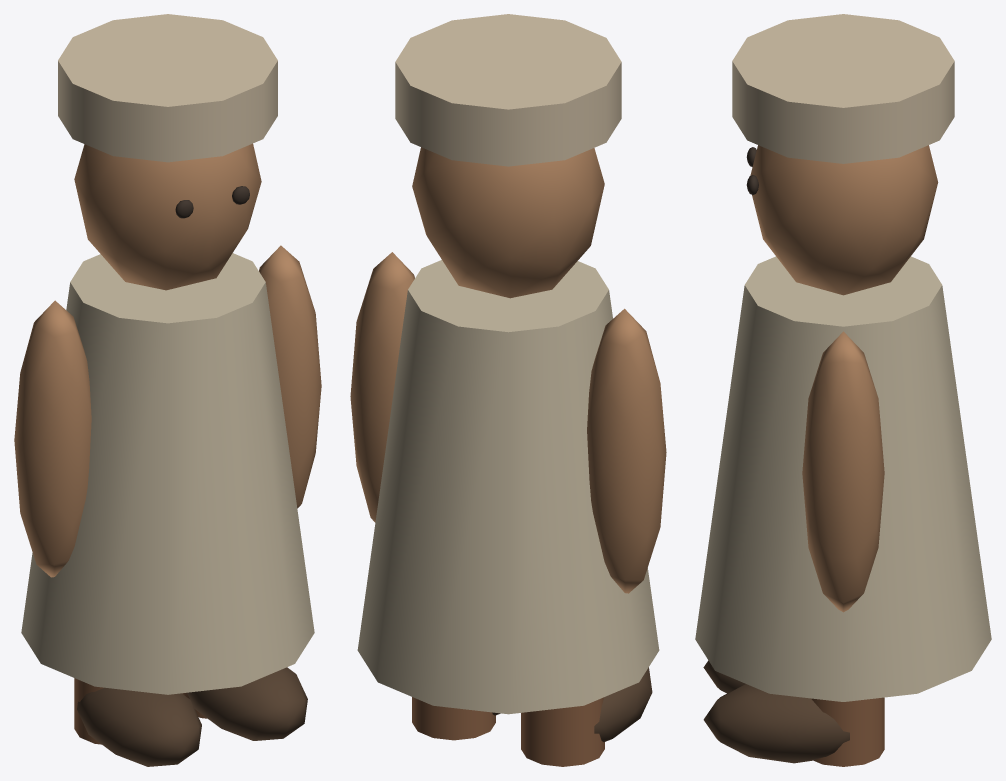
The model's file is resident-ibbi.glb.
3 views of the same model, side by side, from view 1: azimuth 30°, elevation 25°; view 2: azimuth 150°, elevation 25°; view 3: azimuth 270°, elevation 25° (orthographic). The views are drawn at different scales.
Visible parts, largest first — view 1: resident-ibbi; view 2: resident-ibbi; view 3: resident-ibbi.
Boxes of the visible parts, x1,y1,x2,y2 form: resident-ibbi: (14,14,321,766); resident-ibbi: (350,14,666,766); resident-ibbi: (695,14,991,766).
Size of the model in its own units: 0.84 by 1.79 by 0.72.
